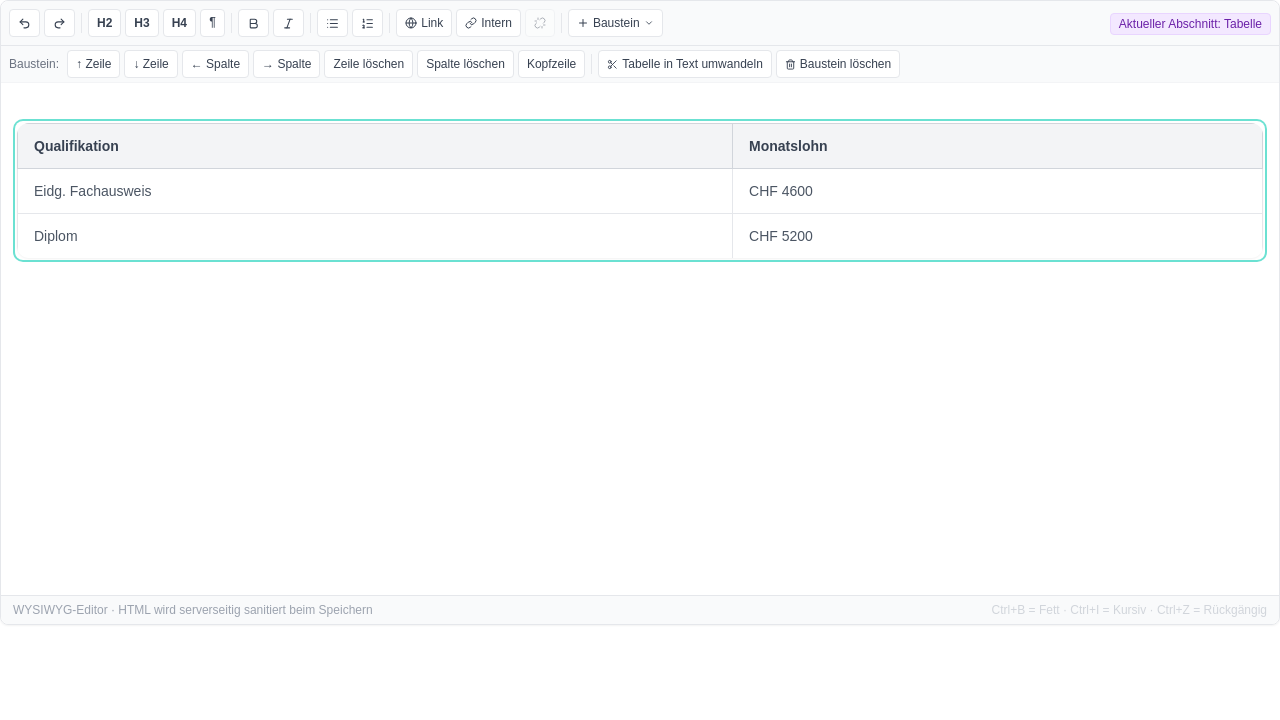
Test case: 1/2/20 – Tabellen-Aktionsleiste ist korrekt verdrahtet › ruft tableToText auf und niemals unwrapBlock
Press the mouse on the button with test id "btn-table-to-text" at (685, 64), box left=598, top=50, right=772, bottom=78
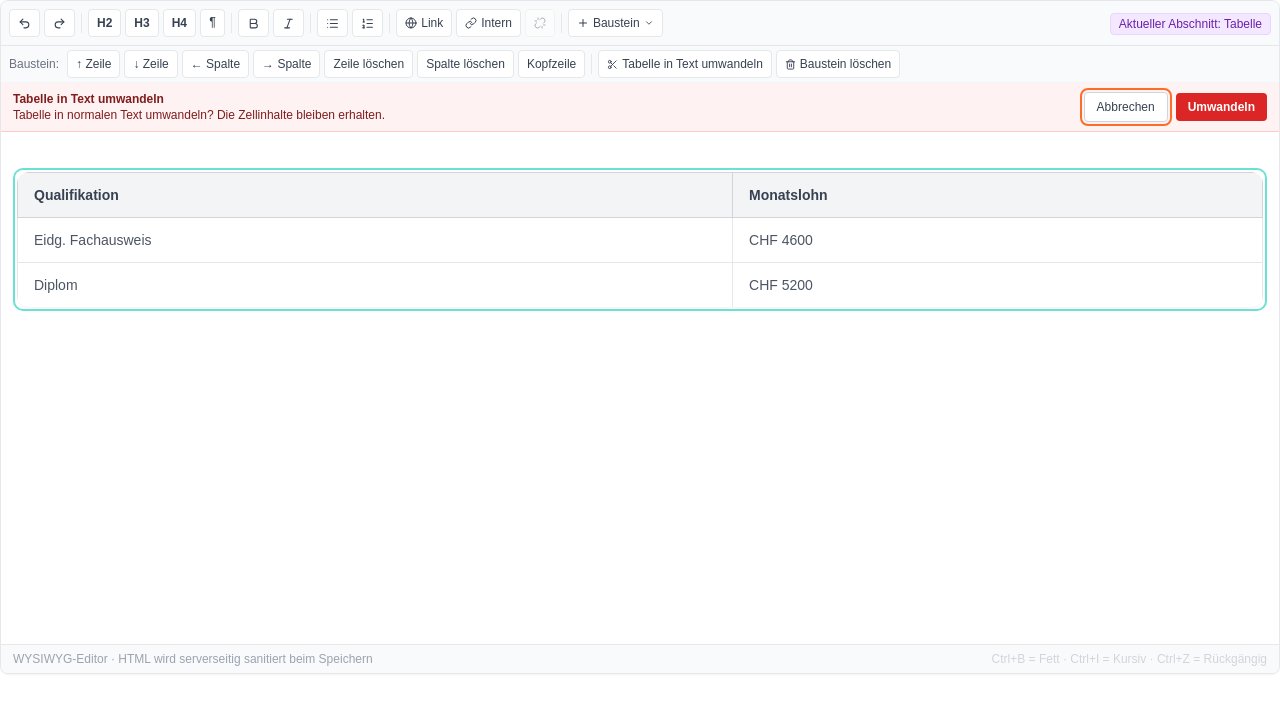
Click the button with test id "block-confirm-accept".
click(1221, 107)  # box left=1176, top=93, right=1267, bottom=121
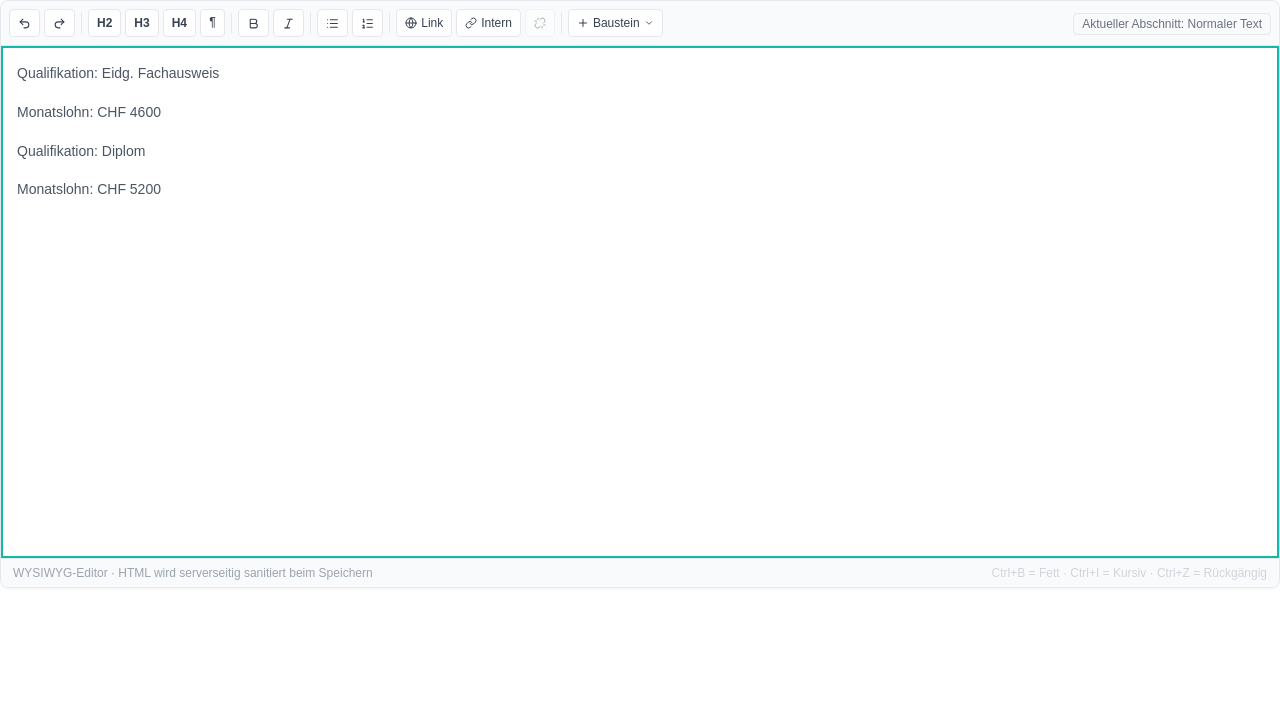
Now the table is gone
Now the row "Qualifikation Monatslohn" is gone
Now the column heading is gone
